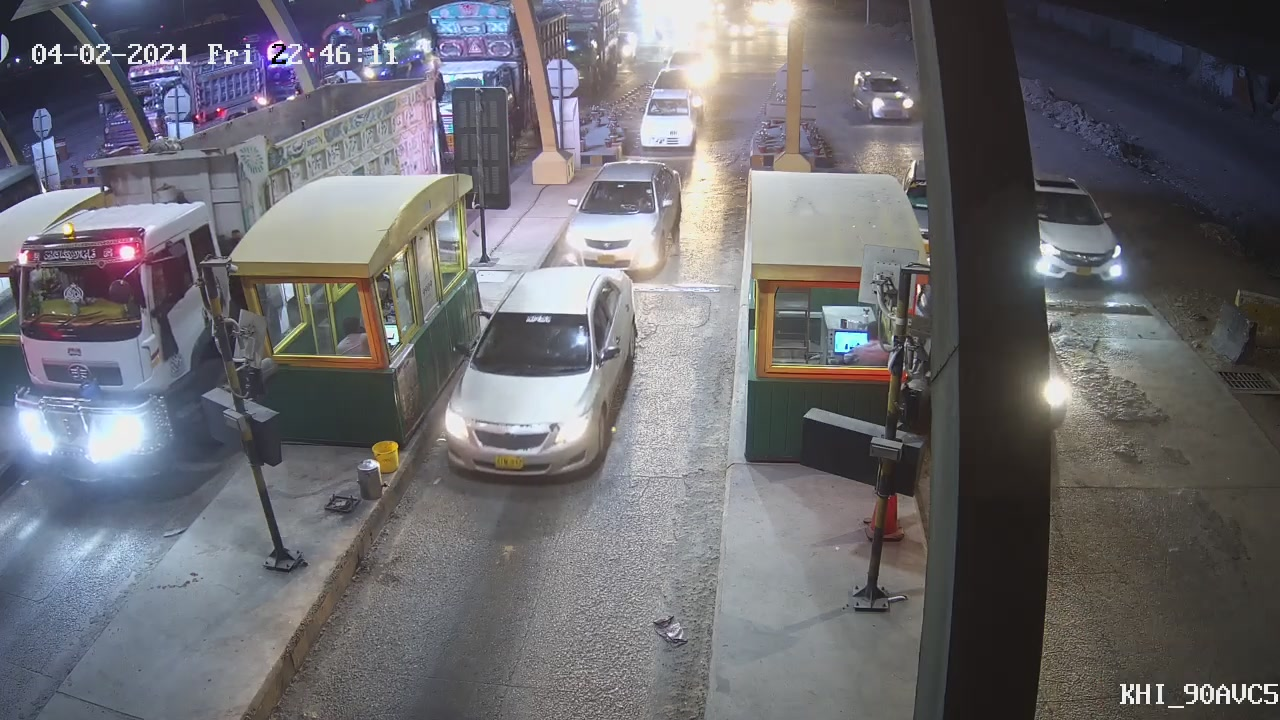F1: (440, 263, 644, 485)
